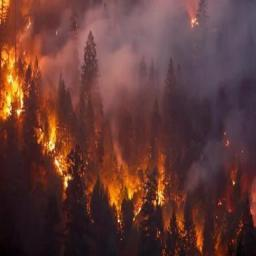Heavy smoke: (0, 0, 253, 205)
Large fire: (0, 0, 255, 255)
